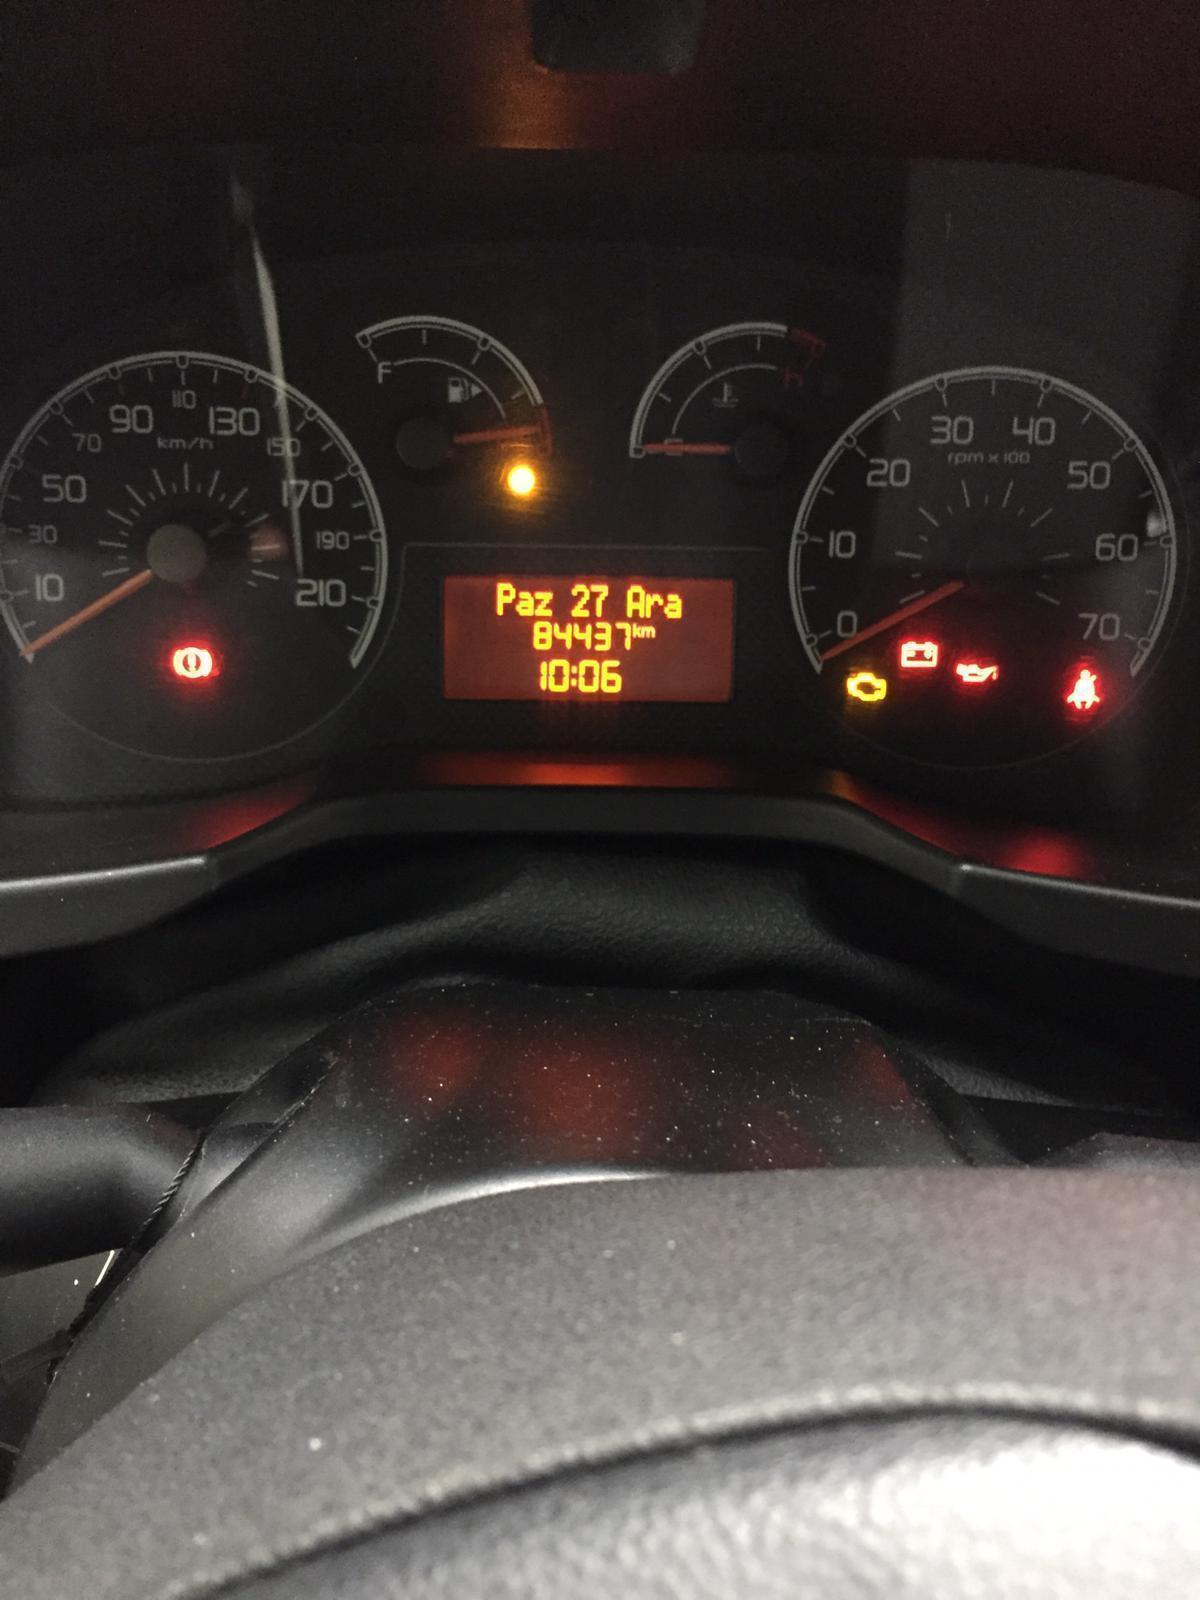0: (579, 656, 599, 693), (550, 658, 568, 692)
1: (538, 656, 547, 692)
2: (568, 581, 592, 619)
3: (594, 619, 613, 651)
4: (552, 622, 572, 649), (574, 622, 592, 650)
6: (601, 658, 624, 693)
7: (591, 583, 609, 619), (615, 621, 632, 651)
8: (532, 620, 552, 650)
X: (494, 580, 516, 615), (626, 585, 645, 619), (534, 590, 555, 616), (516, 590, 534, 616), (645, 591, 663, 619), (664, 593, 683, 619), (568, 663, 579, 688), (642, 624, 657, 639), (632, 621, 642, 639)
odometer: (445, 569, 737, 704)
